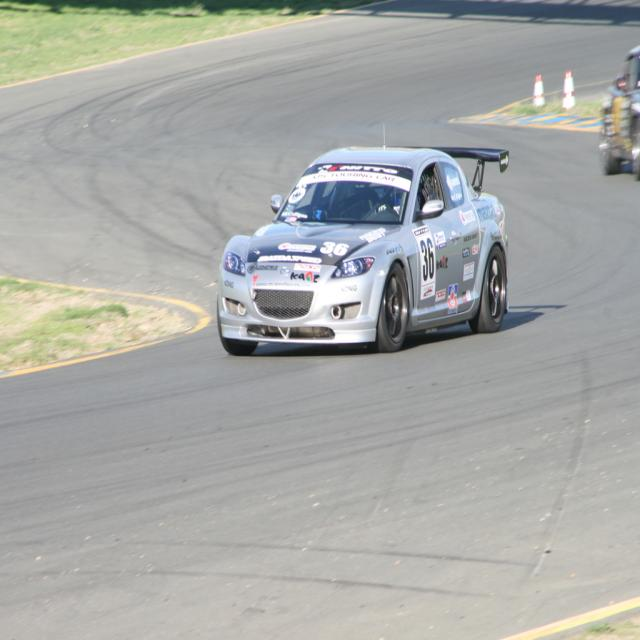car: (205, 139, 520, 359)
